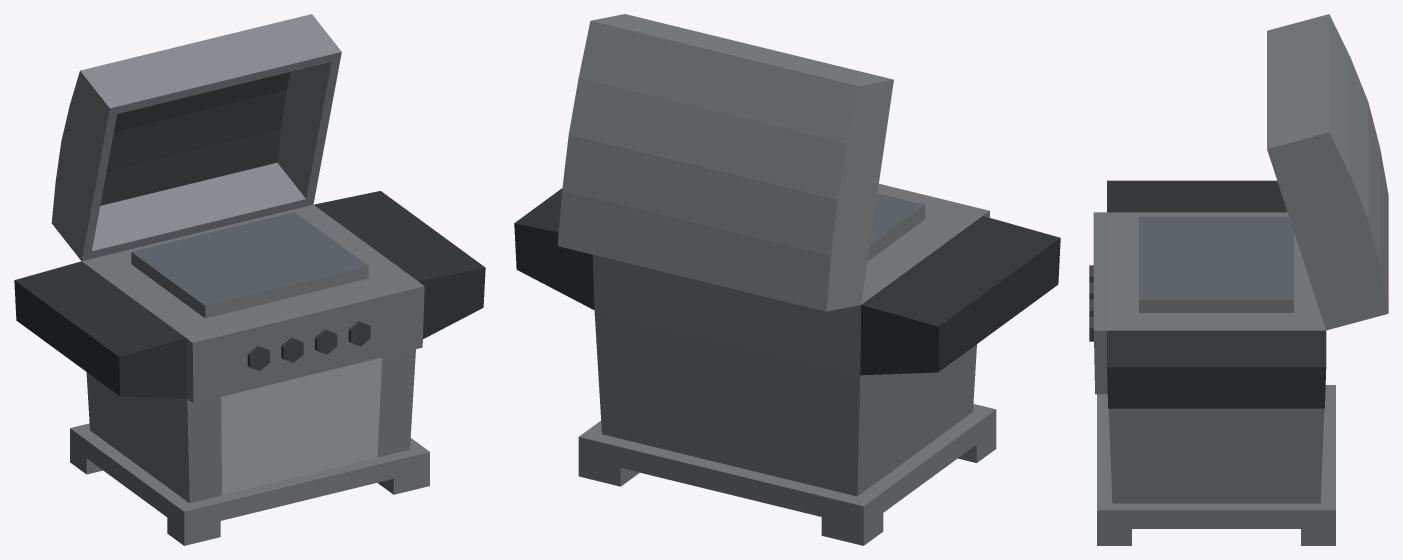
Rendered from Building_Objects_Barbecue.fbx.
The picture shows the model from 3 angles, left to right: view 1: azimuth 30°, elevation 25°; view 2: azimuth 150°, elevation 25°; view 3: azimuth 270°, elevation 25°; orthographic projection. The views are drawn at different scales.
Parts seen in each view (by area): view 1: Building_Objects_Barbecue; view 2: Building_Objects_Barbecue; view 3: Building_Objects_Barbecue.
Part boxes in pixels (left/top/right/bottom): Building_Objects_Barbecue: left=14, top=14, right=485, bottom=545; Building_Objects_Barbecue: left=514, top=14, right=1060, bottom=545; Building_Objects_Barbecue: left=1089, top=14, right=1388, bottom=545.
Bounding box in the file's own units: 130 × 133 × 87.79.
